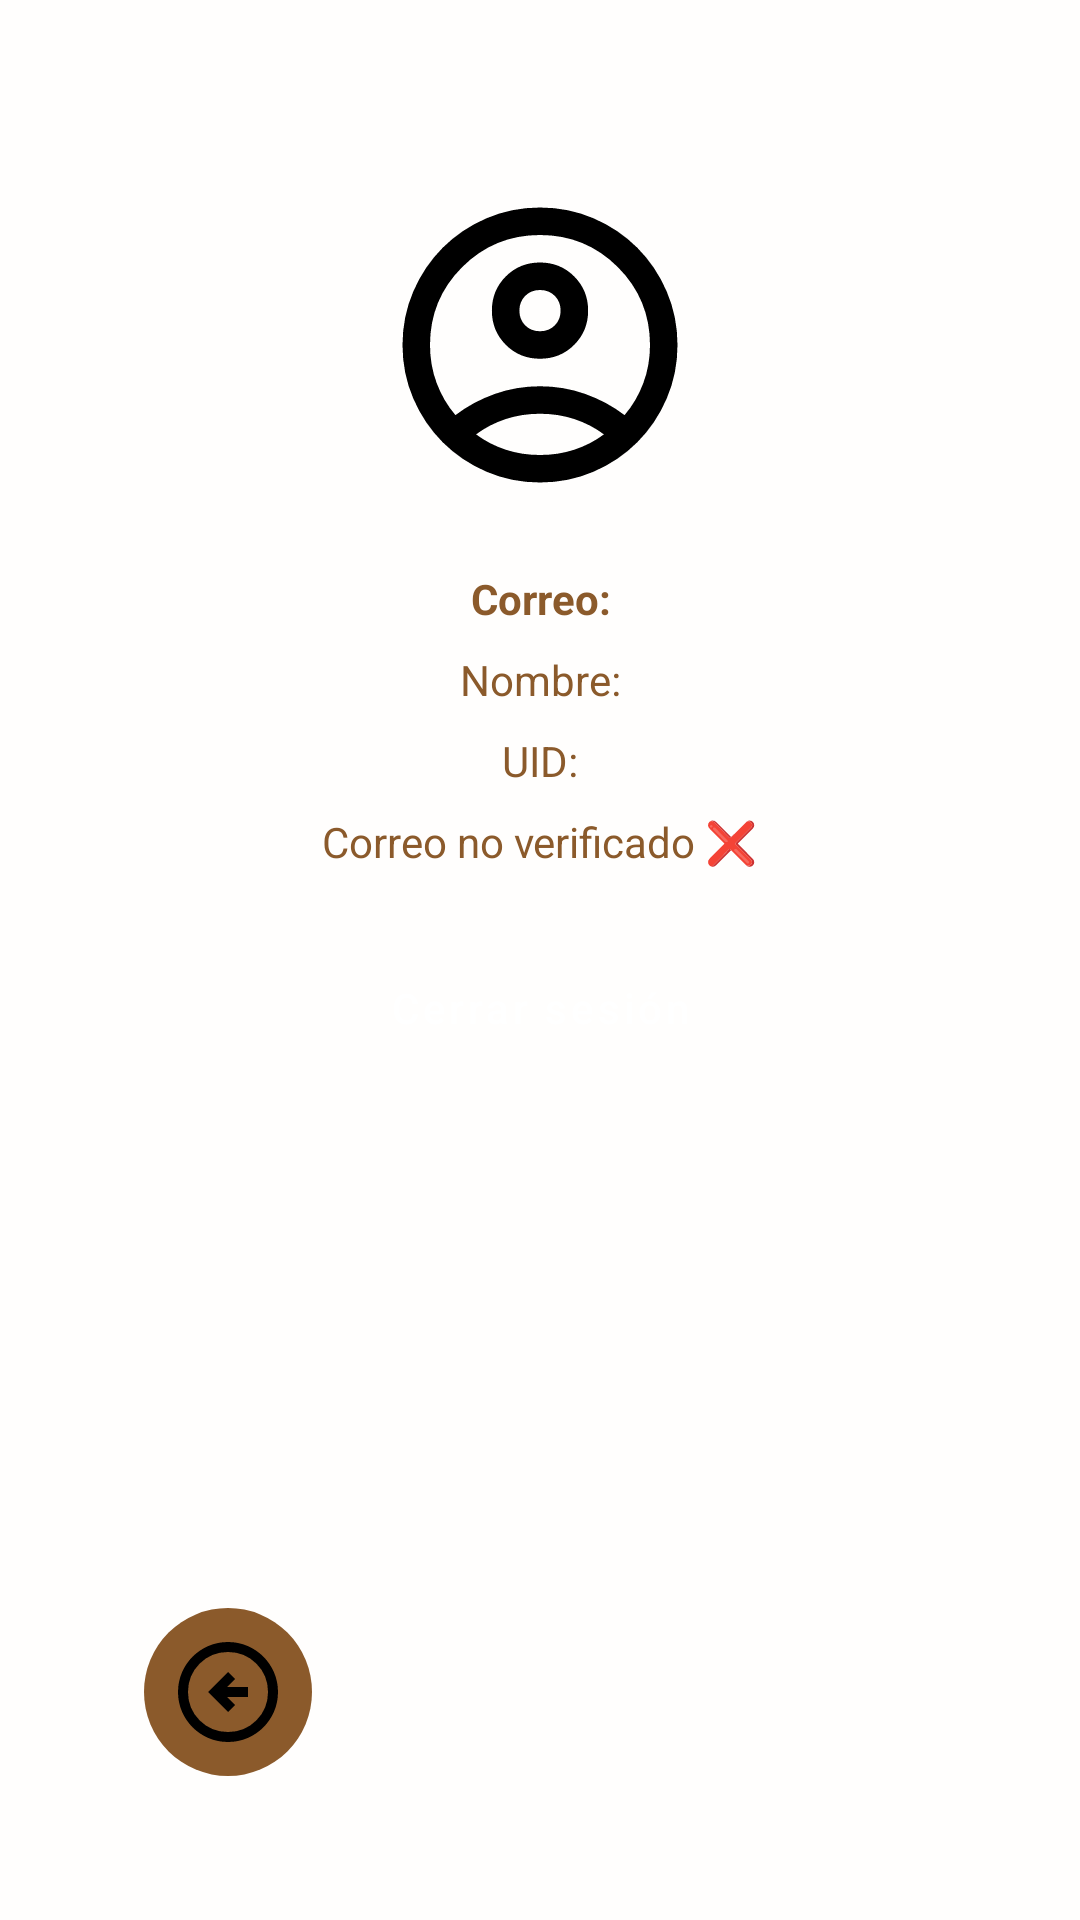

Locate icon controls on the screen. Image size 1080 × 1920, boxes as box(x1, y1, x2, y2).
user: box(402, 207, 678, 483)
Volver: box(144, 1608, 312, 1776)
